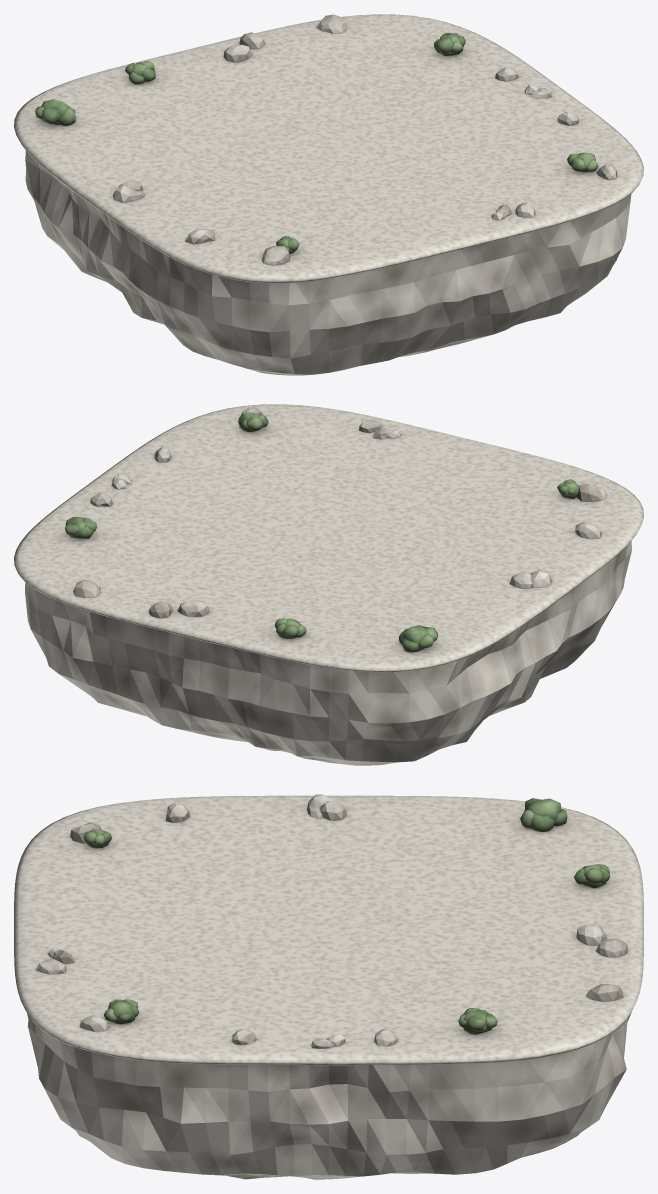
File: SantoriniChapel_Island.fbx
The picture shows the model from 3 angles, top to bottom: view 1: azimuth 30°, elevation 25°; view 2: azimuth 150°, elevation 25°; view 3: azimuth 270°, elevation 25°; orthographic projection. The views are drawn at different scales.
Visible parts, largest first — view 1: Island_Top, Island_Body; view 2: Island_Top, Island_Body; view 3: Island_Top, Island_Body.
Boxes of the visible parts, bbox=[...] form: Island_Top: bbox=[14, 14, 643, 283]; Island_Body: bbox=[25, 150, 631, 375]; Island_Top: bbox=[14, 404, 643, 672]; Island_Body: bbox=[25, 541, 631, 765]; Island_Top: bbox=[14, 794, 643, 1065]; Island_Body: bbox=[27, 1012, 631, 1179].
Bounding box in the file's own units: 15.24 × 5.97 × 15.24.
1 material, 1 textured.
